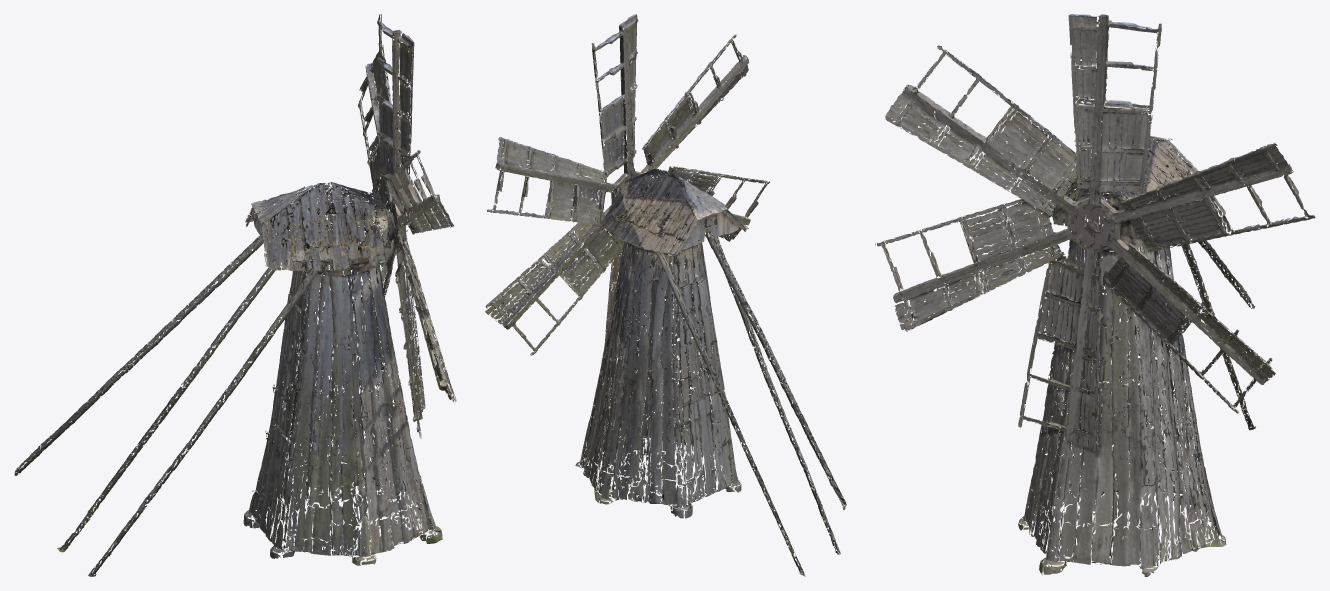
The model's file is windmill.glb.
3 renders of one model, left to right at view 1: azimuth 30°, elevation 25°; view 2: azimuth 150°, elevation 25°; view 3: azimuth 270°, elevation 25°, orthographic. The views are drawn at different scales.
Visible parts, largest first — view 1: Object_2, Object_3, Object_5, Object_4, Object_6; view 2: Object_2, Object_3, Object_4, Object_5, Object_6; view 3: Object_2, Object_3, Object_4, Object_5, Object_6.
Part boxes in pixels (x1,y1,x2,y2): Object_2: (57, 14, 453, 576); Object_3: (14, 172, 456, 576); Object_5: (137, 140, 456, 558); Object_4: (119, 98, 433, 528); Object_6: (258, 200, 427, 565); Object_2: (486, 14, 840, 576); Object_3: (502, 139, 846, 573); Object_4: (485, 82, 808, 501); Object_5: (509, 125, 791, 506); Object_6: (527, 204, 739, 501); Object_2: (875, 14, 1315, 575); Object_3: (893, 138, 1267, 566); Object_4: (895, 97, 1275, 545); Object_5: (879, 149, 1255, 576); Object_6: (999, 148, 1227, 539).
Bounding box in the file's own units: 6.93 × 8.45 × 6.
Materials: 1 (1 with a texture image).
